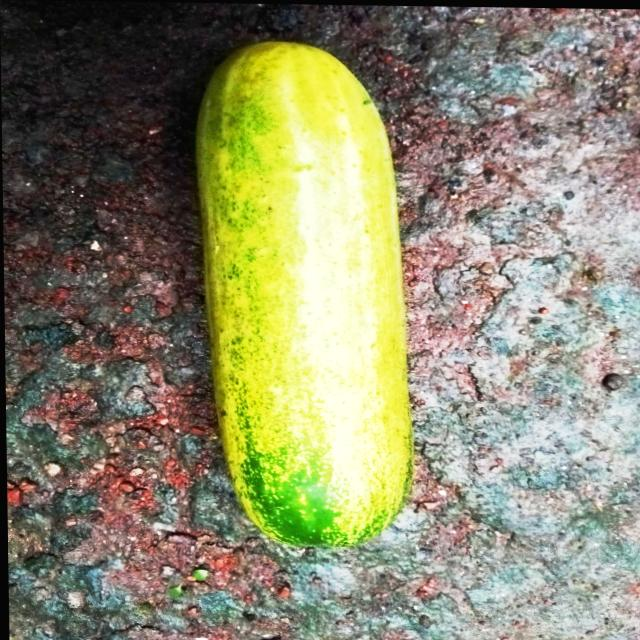Fresh-Cucumber: (192, 39, 414, 553)
